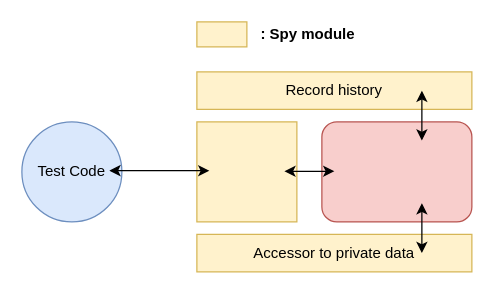
Image size: 494x294. Some labels were removed from this diagram. Each missing label, with the centre of its shape:
"Object Under Test" goes at (x=396, y=171).
"Wrapper" goes at (x=246, y=171).
